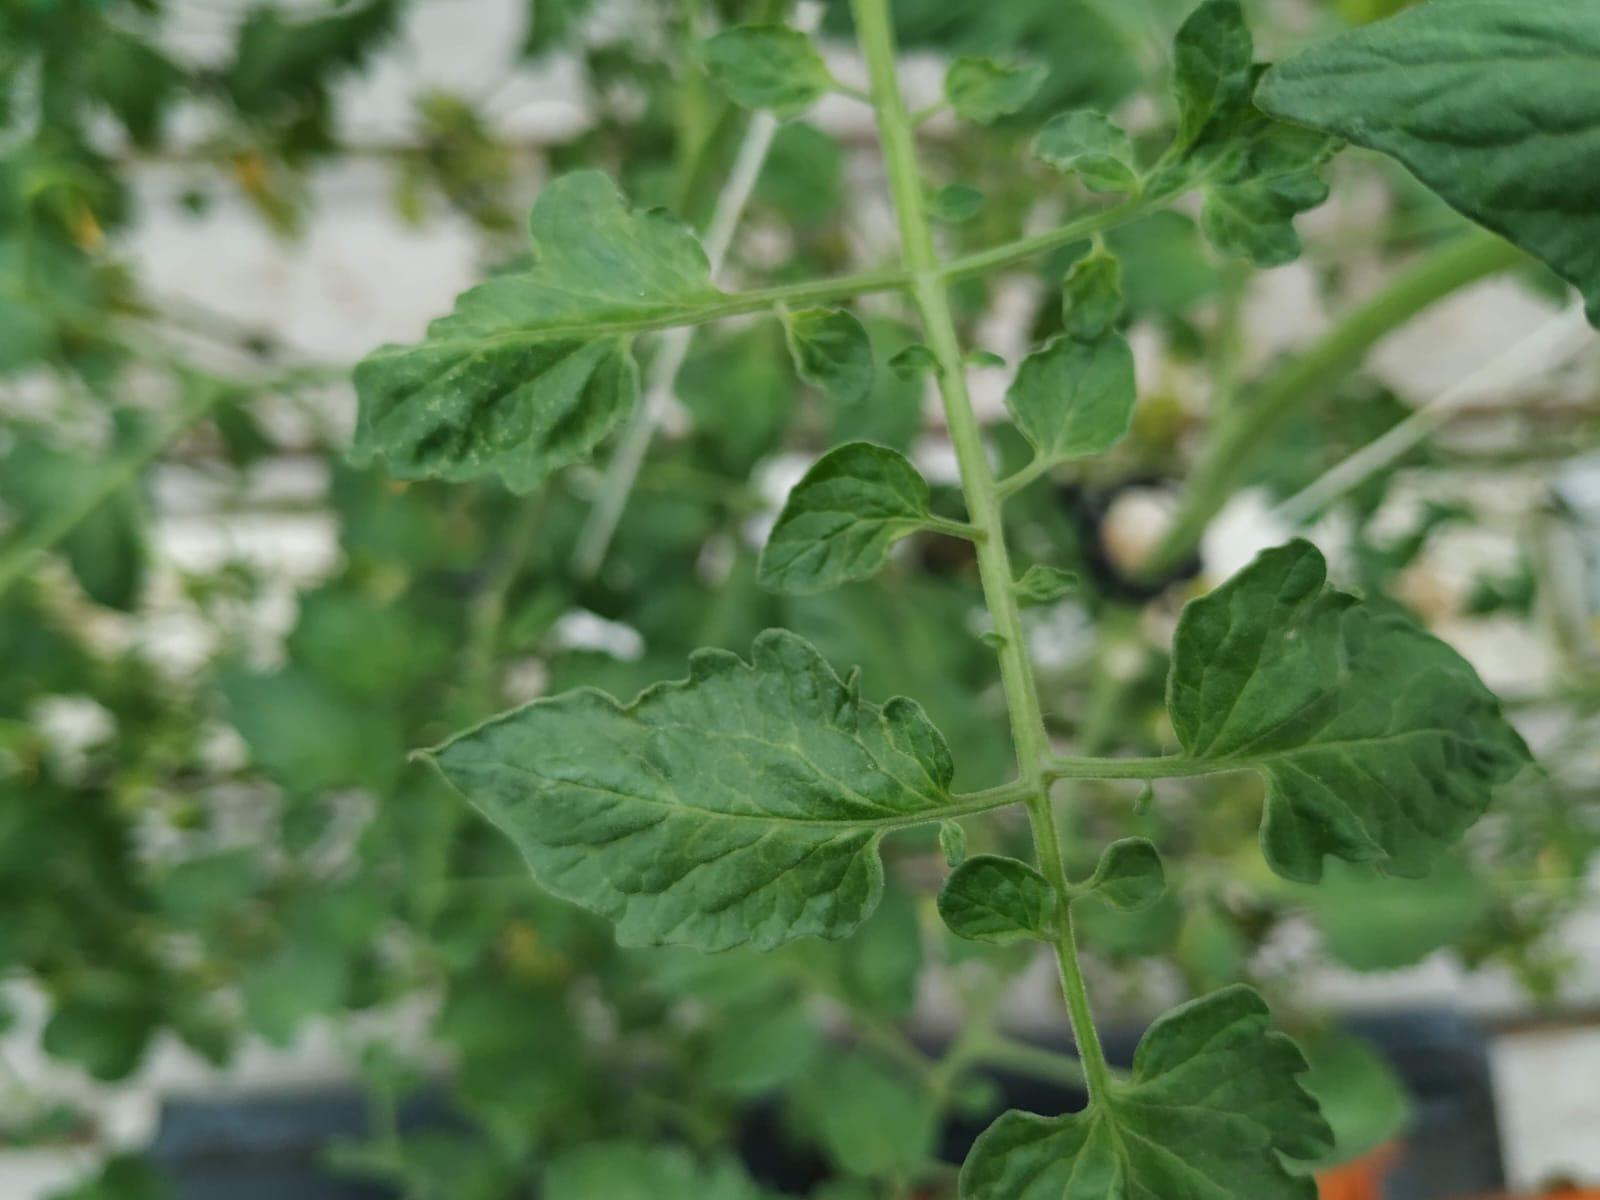Hoja: (757, 441, 978, 592), (937, 856, 1056, 942)
Hoja rugoso: (425, 628, 957, 952), (1168, 538, 1532, 881), (960, 984, 1334, 1197), (351, 334, 636, 490)
